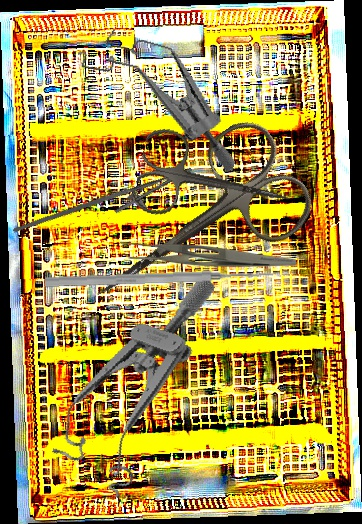Dressing Forceps: (120, 239, 296, 267)
Iris Scissors: (60, 110, 325, 345), (130, 123, 299, 244)
Needle Holder: (12, 146, 199, 266)
Pusher: (44, 267, 274, 290)
Speculum: (44, 250, 217, 506), (57, 19, 262, 175)
